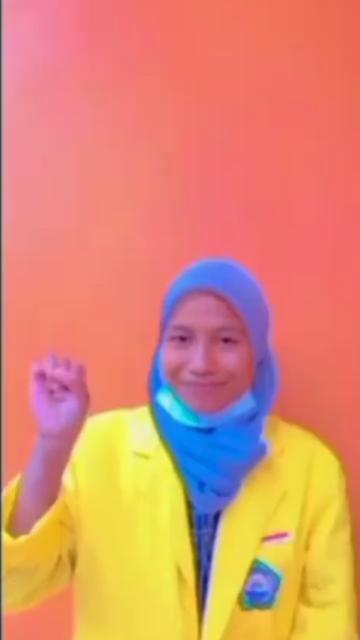S: (28, 353, 92, 441)
